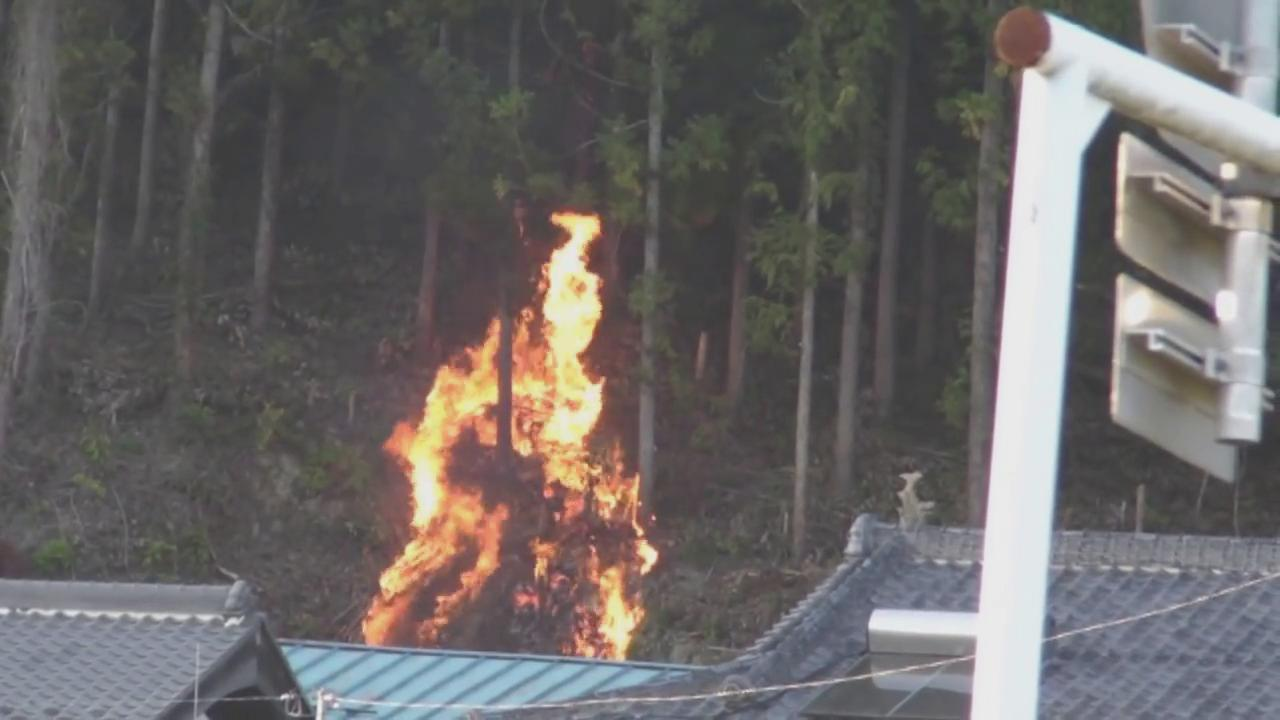Fire: (362, 208, 657, 663)
